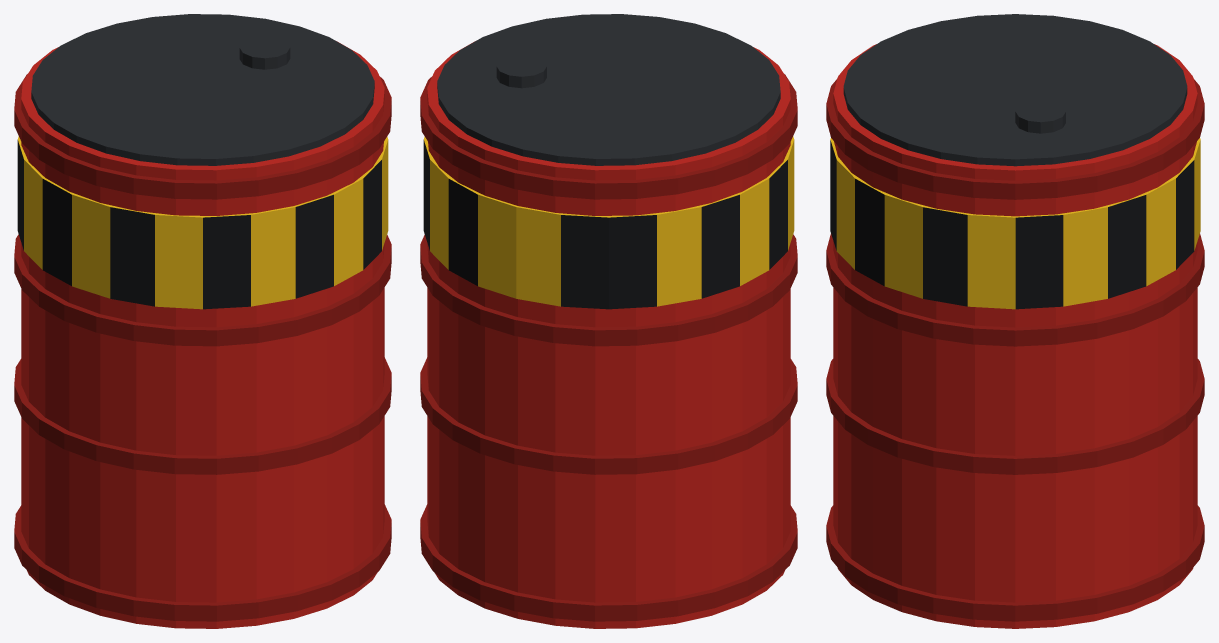
The model's file is zk-barrel.glb.
The picture shows the model from 3 angles, left to right: view 1: azimuth 30°, elevation 25°; view 2: azimuth 150°, elevation 25°; view 3: azimuth 270°, elevation 25°; orthographic projection.
Visible parts, largest first — view 1: barrel; view 2: barrel; view 3: barrel.
Part boxes in pixels (x1=…): barrel: x1=14, y1=14, x2=391, y2=628; barrel: x1=420, y1=14, x2=797, y2=628; barrel: x1=826, y1=14, x2=1204, y2=628.
Size of the model in its own units: 0.748 by 1.04 by 0.748.
